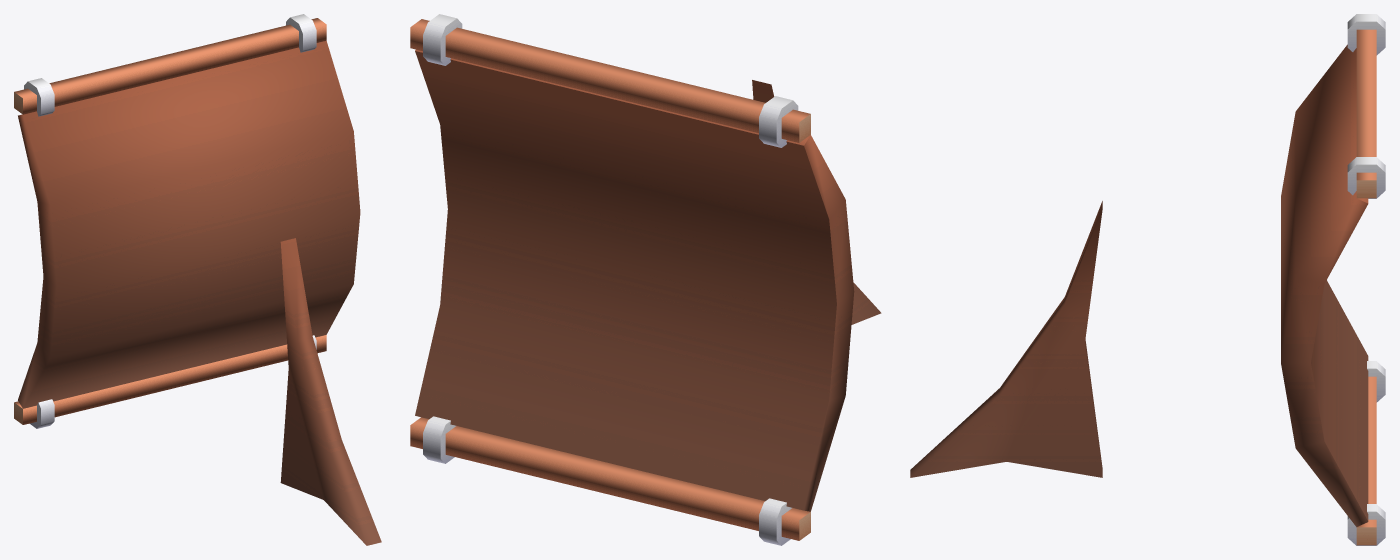
The model's file is sail_brown.glb.
3 views of the same model, side by side, from view 1: azimuth 30°, elevation 25°; view 2: azimuth 150°, elevation 25°; view 3: azimuth 270°, elevation 25° (orthographic). The views are drawn at different scales.
Visible parts, largest first — view 1: sail-a_brown; view 2: sail-a_brown; view 3: sail-a_brown.
Part boxes in pixels (<box>): sail-a_brown: <box>14,14,381,545</box>; sail-a_brown: <box>410,14,881,545</box>; sail-a_brown: <box>910,14,1385,545</box>.
Bounding box in the file's own units: 4.4 × 4.76 × 5.33.
1 material, 1 textured.
